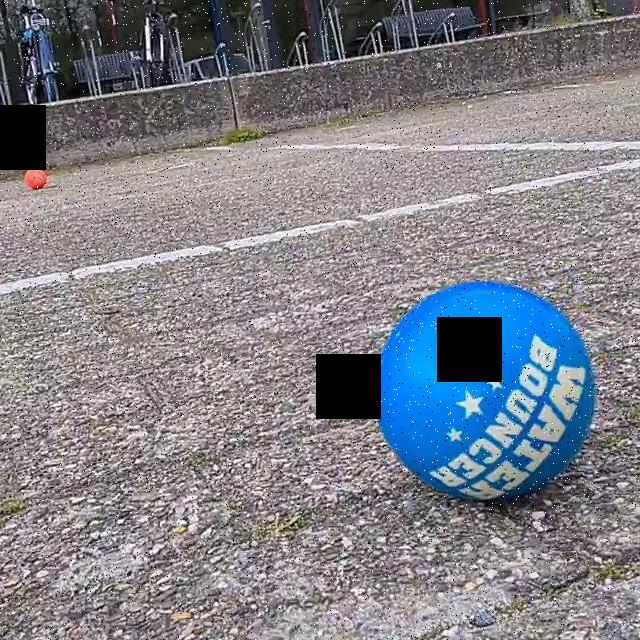ball: (22, 168, 50, 192)
